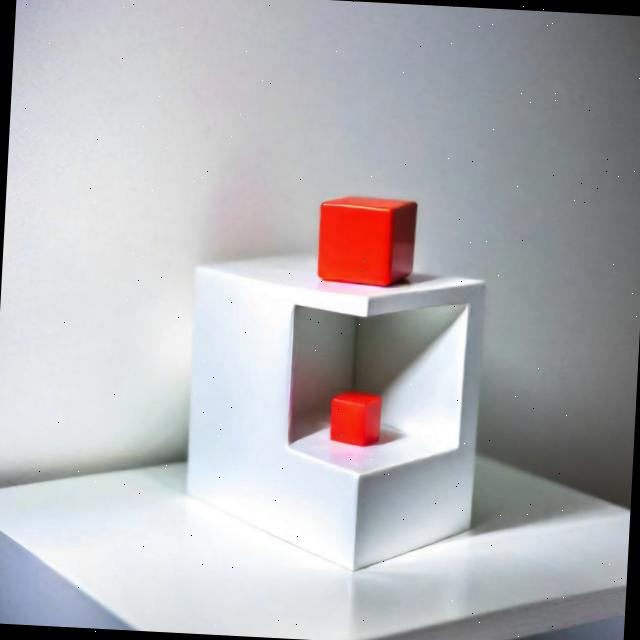red_block: (320, 192, 418, 287), (328, 388, 390, 450)
